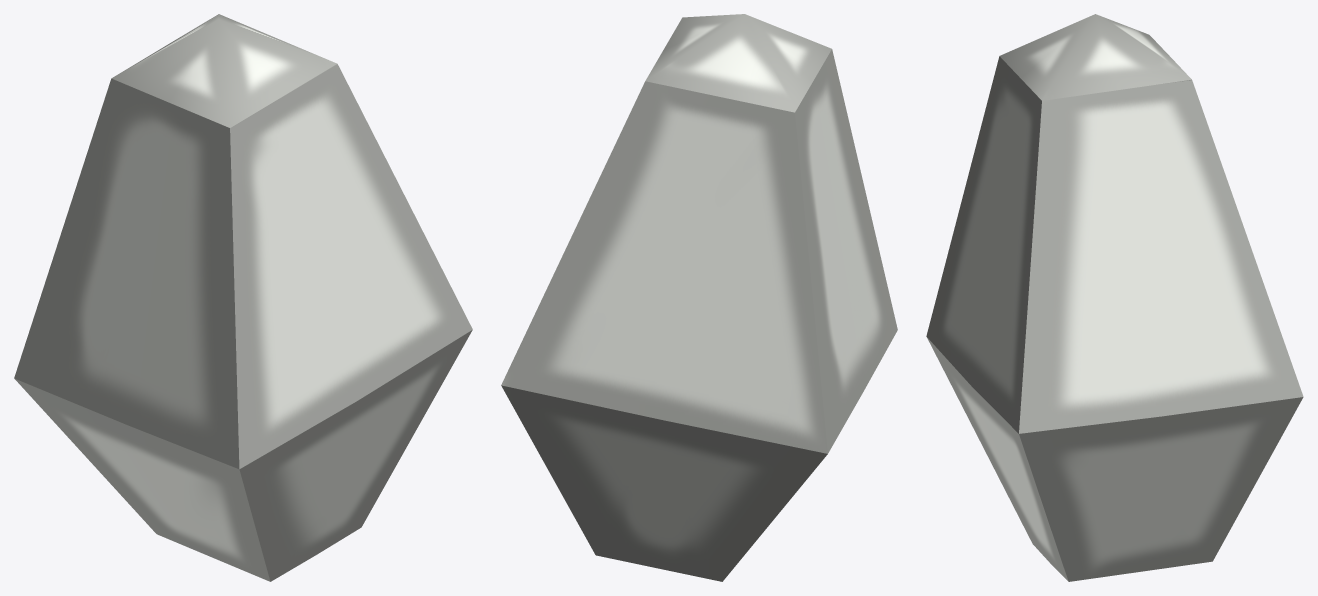
Rendered from Thigh L.fbx.
The picture shows the model from 3 angles, left to right: view 1: azimuth 30°, elevation 25°; view 2: azimuth 150°, elevation 25°; view 3: azimuth 270°, elevation 25°; orthographic projection. The views are drawn at different scales.
Visible parts, largest first — view 1: Thigh L_Baked; view 2: Thigh L_Baked; view 3: Thigh L_Baked.
Part boxes in pixels (box(x1,y1,x2,y2)): Thigh L_Baked: box(14, 14, 472, 581); Thigh L_Baked: box(501, 14, 897, 581); Thigh L_Baked: box(926, 14, 1303, 581).
Bounding box in the file's own units: 113 × 163 × 107.
Materials: 1 (1 with a texture image).
